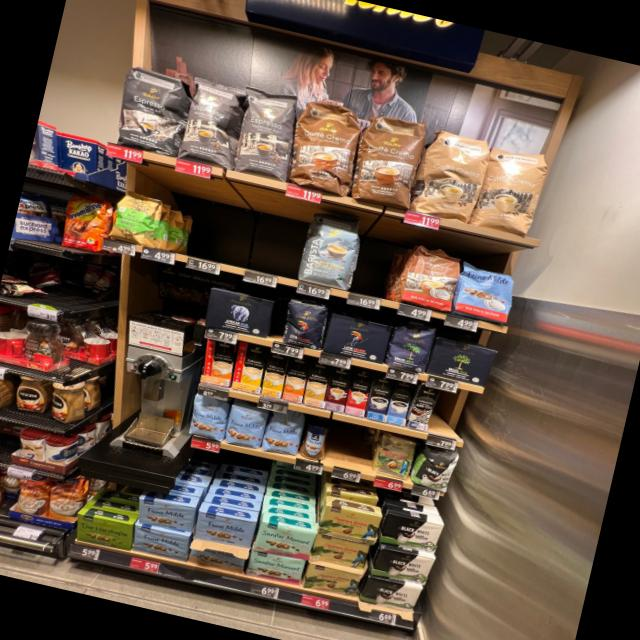AB Gemahlen: (200, 286, 276, 340)
Athiopien Bohne: (108, 186, 162, 248)
BM Bohne: (384, 318, 437, 375)
BM Gemahlen: (426, 334, 498, 389)
BW Bohne: (412, 444, 459, 494)
BW Gemahlen: (379, 509, 445, 554), (358, 575, 423, 615), (370, 546, 436, 585)
Barista CC: (297, 206, 366, 291)
CC Mild: (412, 124, 492, 224), (471, 141, 550, 239)
CC Vollmundig: (399, 242, 464, 312)
CC Vollmundig 36 Pads: (284, 94, 369, 198), (348, 108, 431, 212)
Colombia BB Bohne: (370, 432, 418, 482)
Colombia BB Gemahlen: (317, 501, 382, 547), (309, 533, 371, 570), (302, 562, 365, 597)
Espresso M Art: (226, 85, 304, 181), (175, 72, 250, 170)
Espresso S Art: (110, 61, 194, 158)
FM 36 Pads: (451, 260, 520, 324)
FM Bohne: (184, 393, 231, 442), (222, 402, 268, 451), (262, 411, 307, 458)
FM Gemahlen: (194, 510, 256, 549), (132, 524, 189, 563), (138, 496, 197, 533)
FM Instant: (298, 420, 332, 462)
Herzhatfe Mundig: (71, 512, 135, 552)
LG Bohne: (277, 296, 330, 352)
LG Gemahlen: (322, 312, 394, 366)
SM Gemahlen: (252, 519, 318, 560), (247, 550, 307, 585)
Simo CCMild: (231, 341, 268, 394)
Simo CCMild bigpack: (260, 351, 289, 398)
Simo CCVollmundig: (201, 338, 235, 387)
Simo CCVollmundig bigpack: (282, 356, 310, 403)
Simo Decaff: (303, 359, 332, 407)
Simo Es Brazil: (344, 367, 374, 417)
Simo Es Caramel: (323, 366, 352, 413)
Simo Es Elegant: (406, 383, 441, 430)
Simo Es Kraft: (365, 373, 394, 422)
Simo Es Vanilla: (386, 379, 414, 426)
